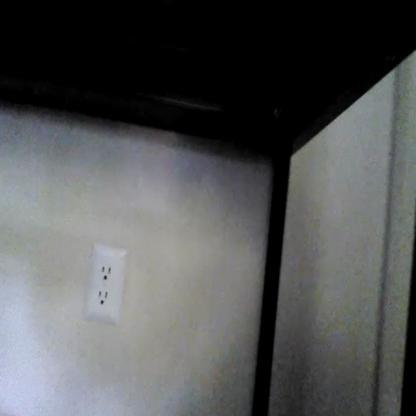OUTLET: (88, 242, 122, 318)
